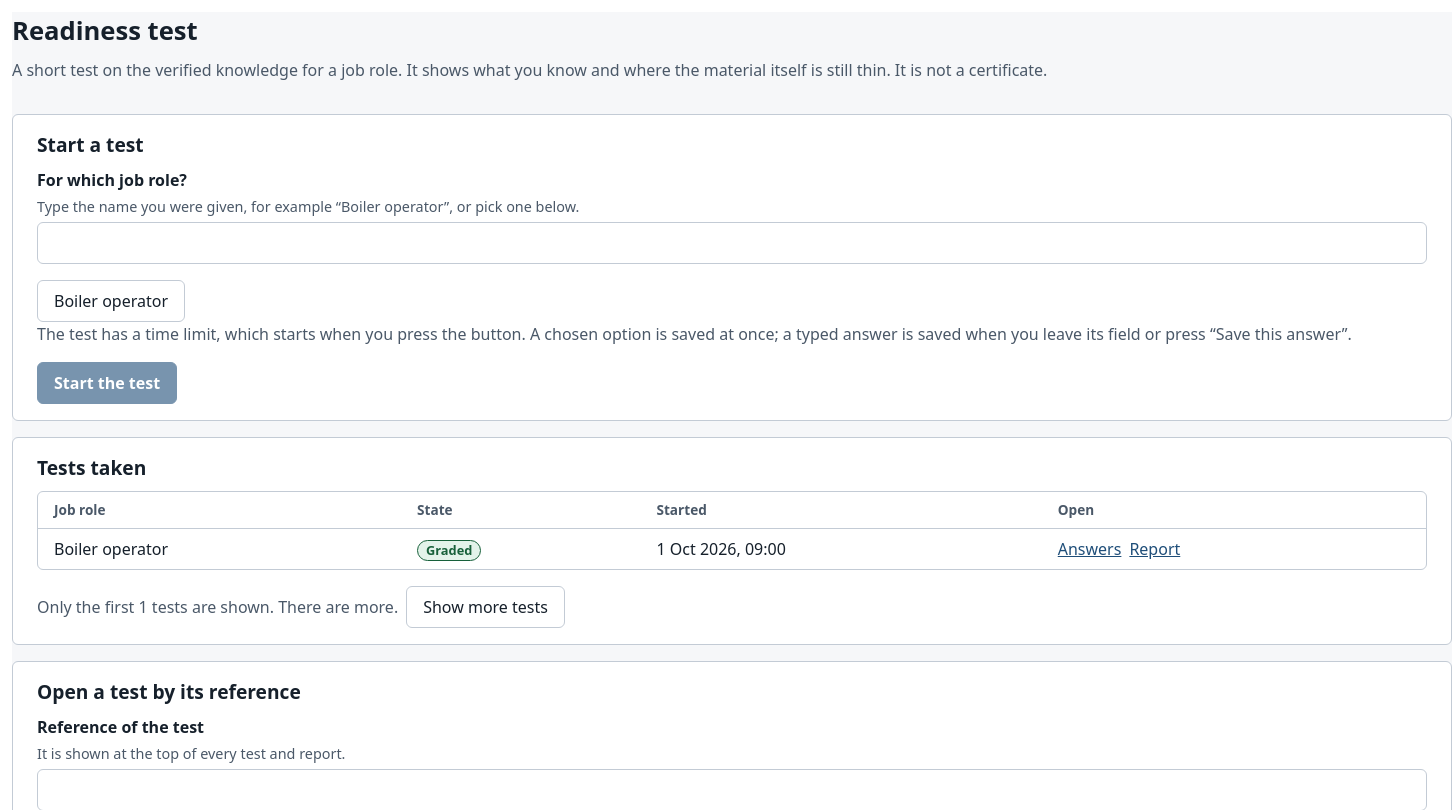
Scenario: tests taken › offers the job roles to pick from when starting a test, and fetches more tests with the cursor
Click the button "Boiler operator".
click(111, 301)  # box x1=37 y1=280 x2=185 y2=322
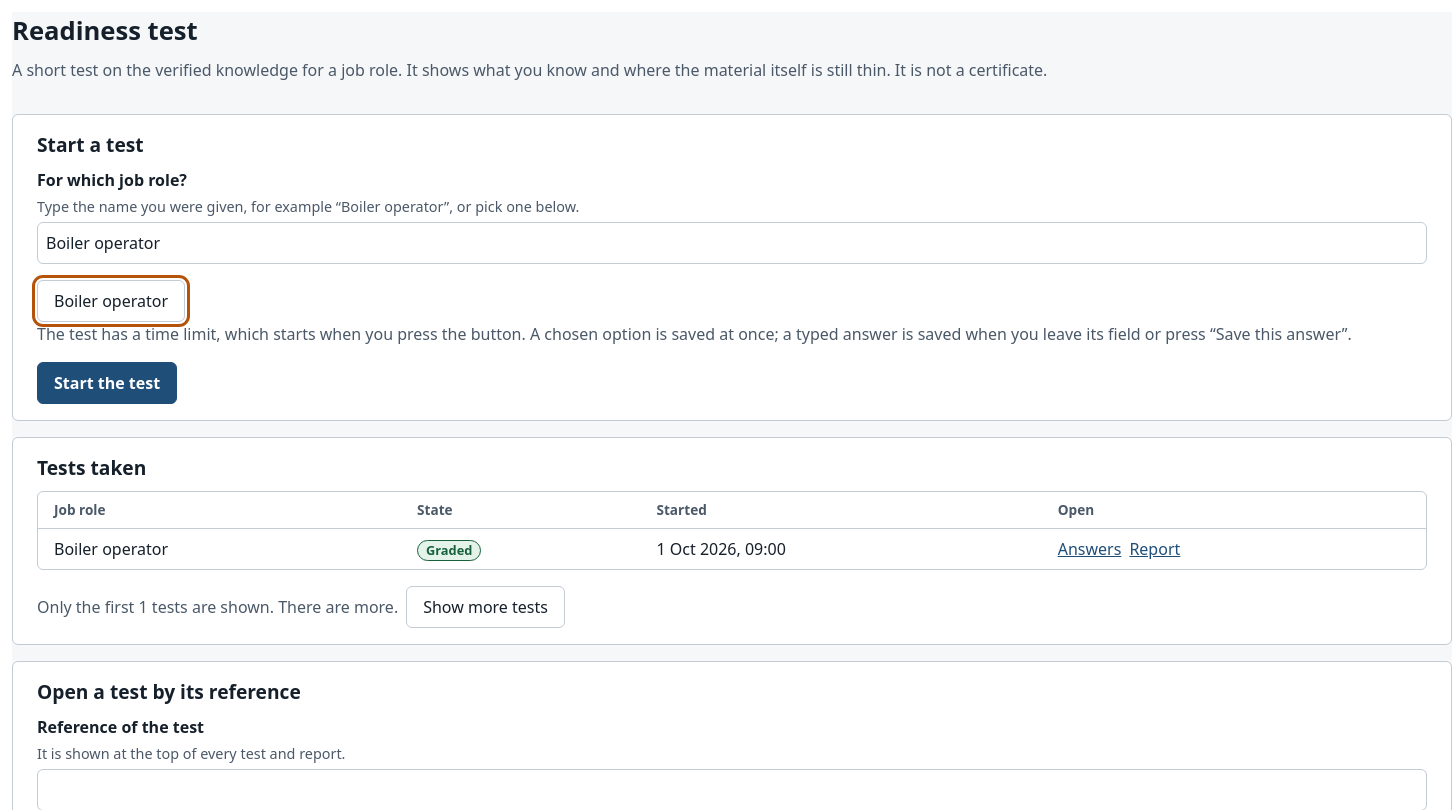
expect the field labelled "For which job role?" holds "Boiler operator": met, box x1=37 y1=222 x2=1427 y2=264
Click the button "Show more tests".
click(486, 607)  # box x1=406 y1=586 x2=565 y2=628
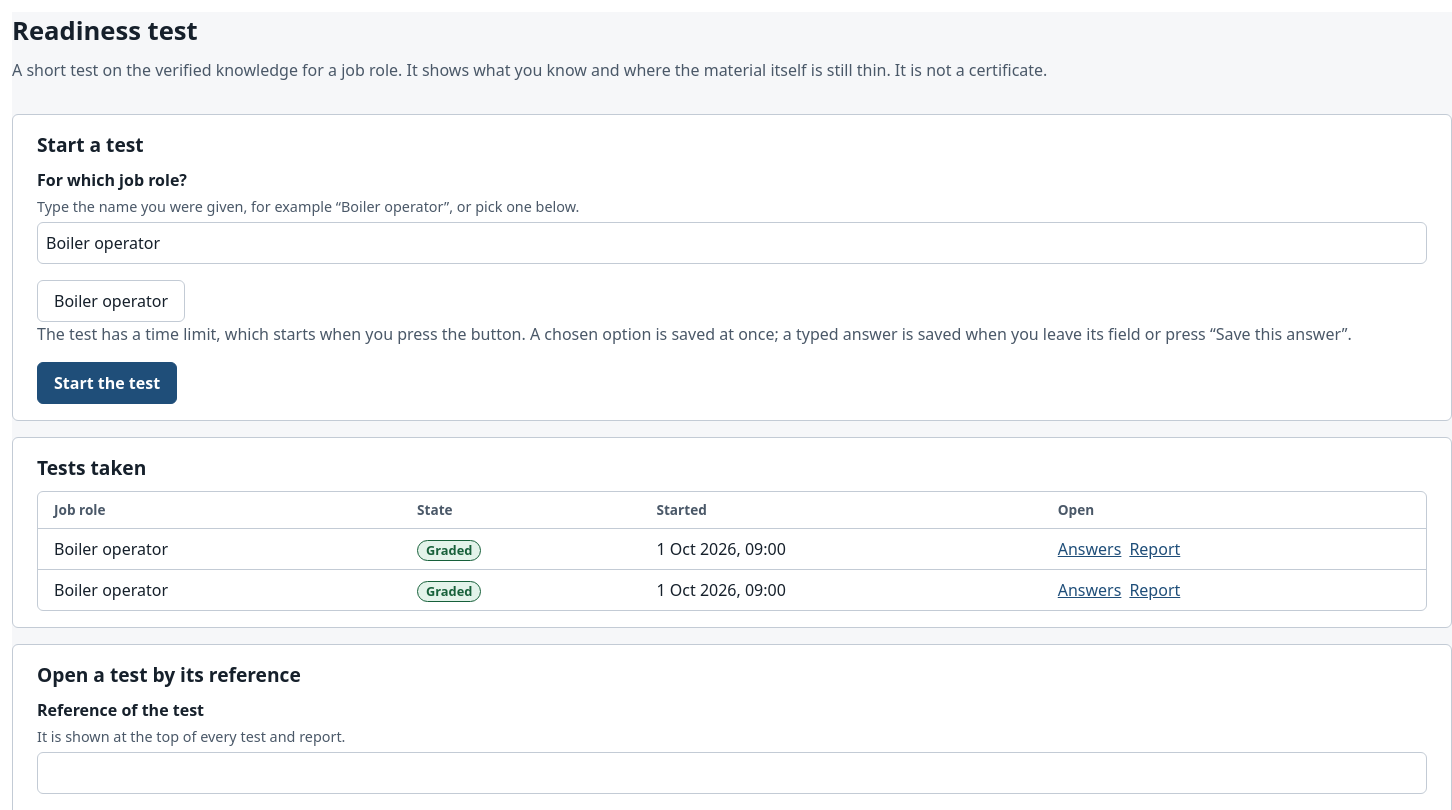
expect the number of rows is 3: met, box x1=38 y1=492 x2=1426 y2=528; x1=38 y1=529 x2=1426 y2=570; x1=38 y1=570 x2=1426 y2=610
